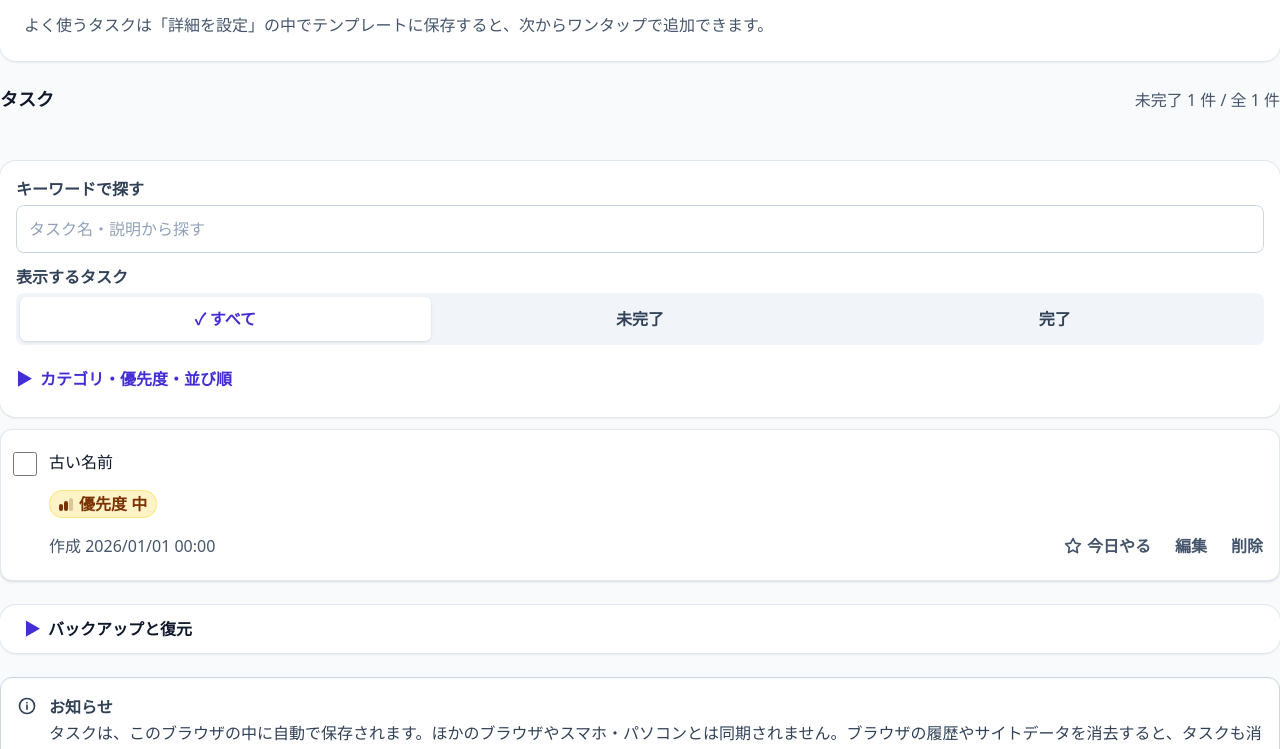
Test case: タスクの詳細管理 › タスクを編集して保存できる（更新日時が表示される）
This screenshot has width=1280, height=749.
(page scrolled)
Click the button with aria-label "「古い名前」を編集" at (1191, 546), box [1163,524,1219,568]
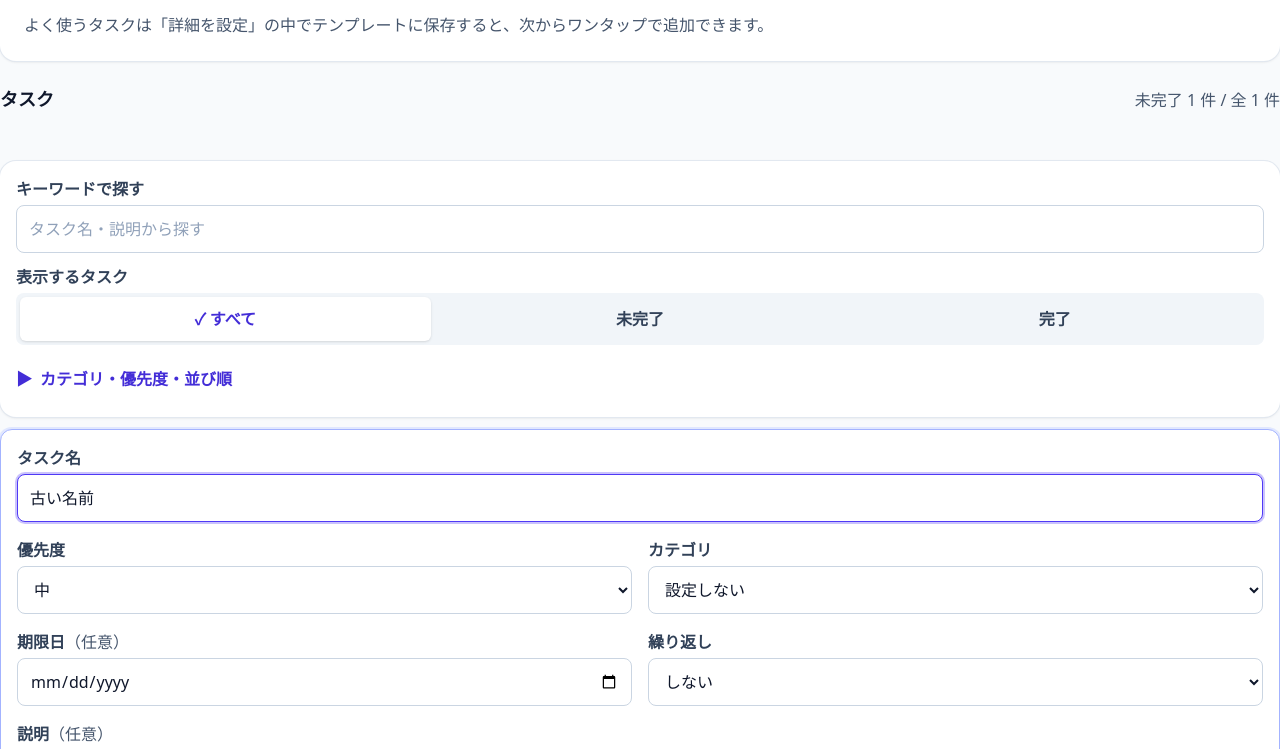
Replace the text in the field labelled "タスク名" with "新しい名前" at (640, 498), box [17,474,1263,522]
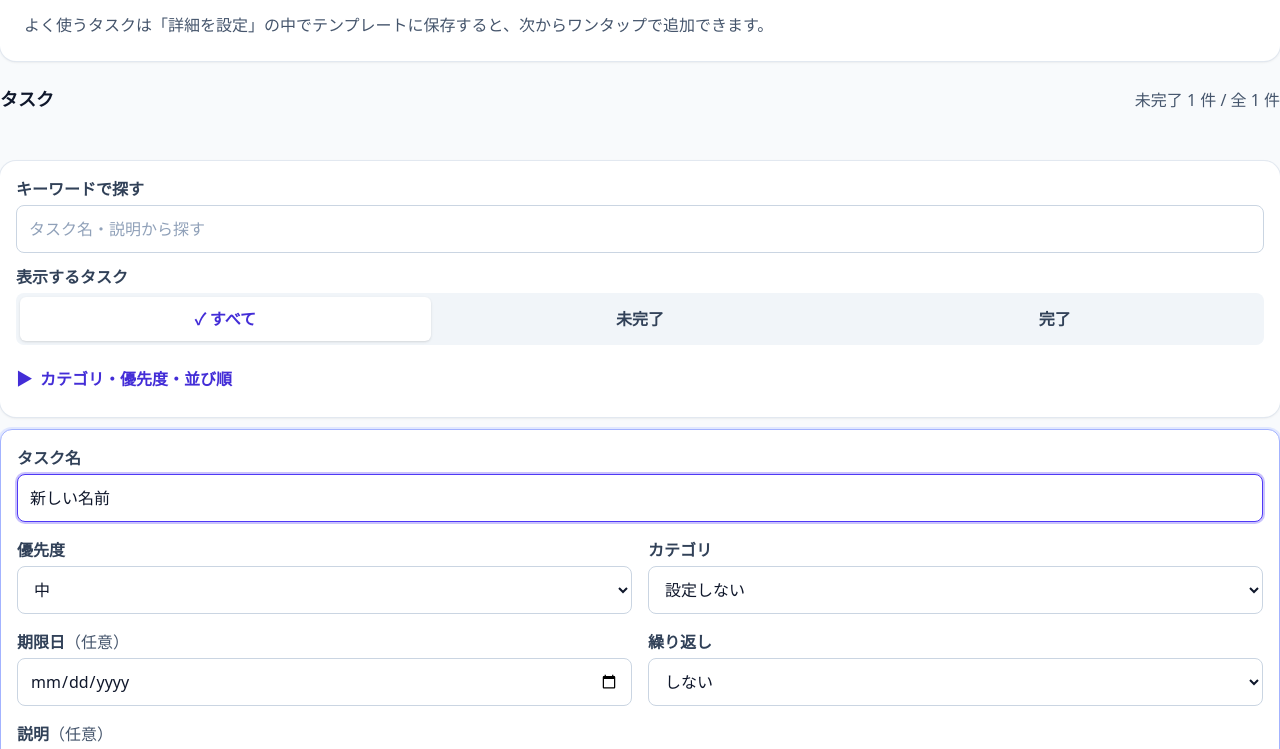
Select "低" in the dropdown labelled "優先度" at (324, 590), box [17,566,632,614]
(page scrolled)
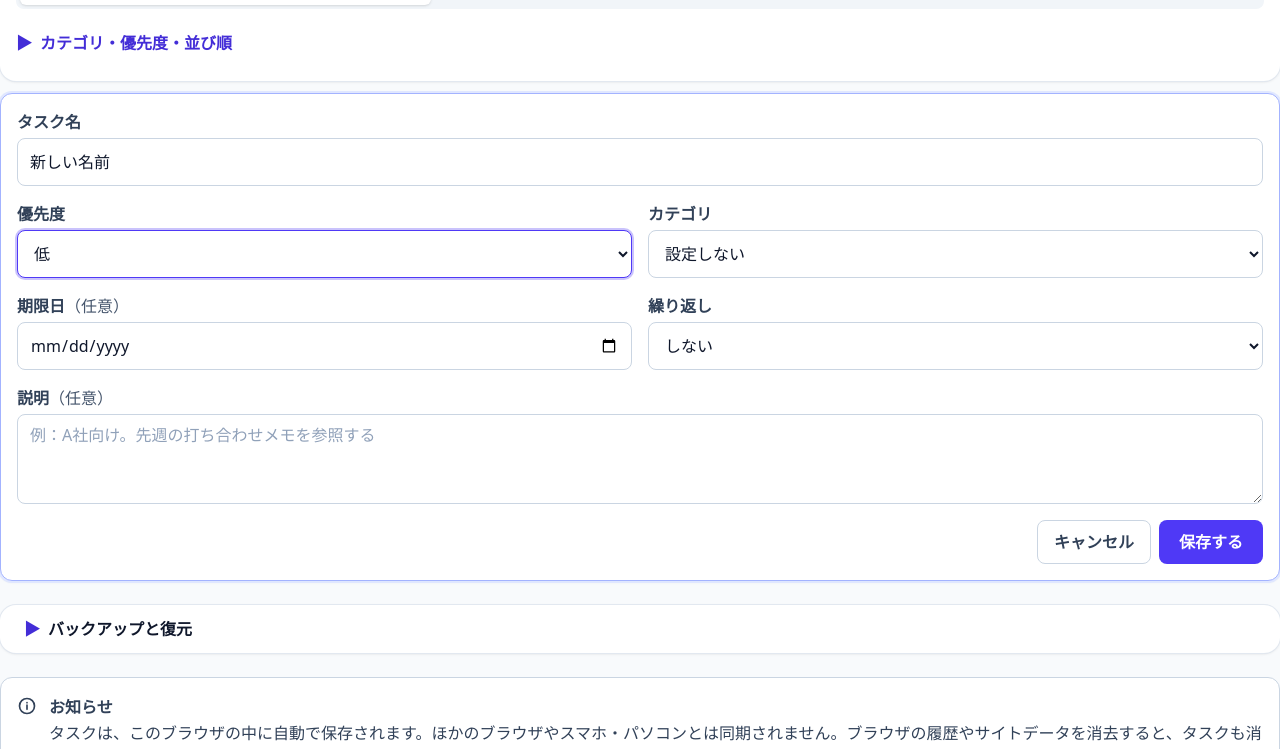
Click the button "保存する" at (1211, 542), box [1159,520,1263,564]
(page scrolled)
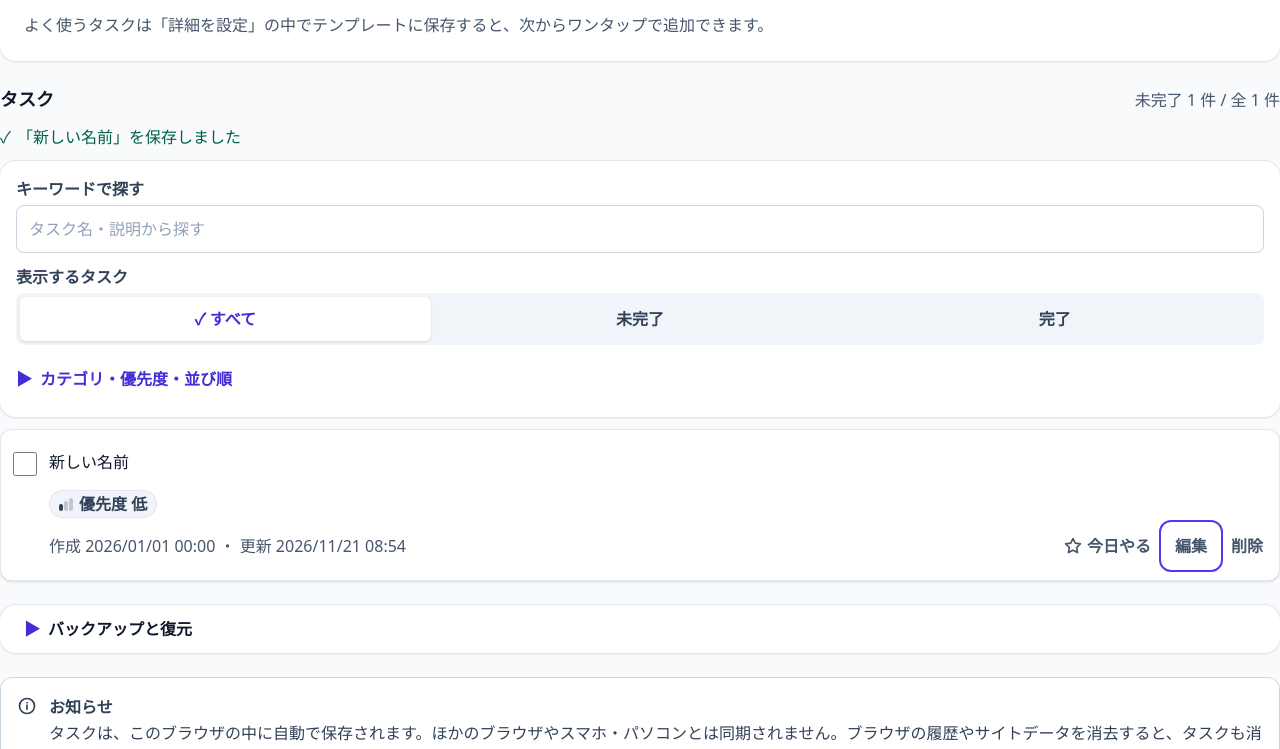
Result: the text "新しい名前" is shown at [49,450,129,474]
Result: the text "優先度 低" is shown at [49,490,157,518]
Result: the text "作成 2026/01/01 00:00 ・ 更新 2026/11/21 08:54" is shown at [49,534,406,558]
